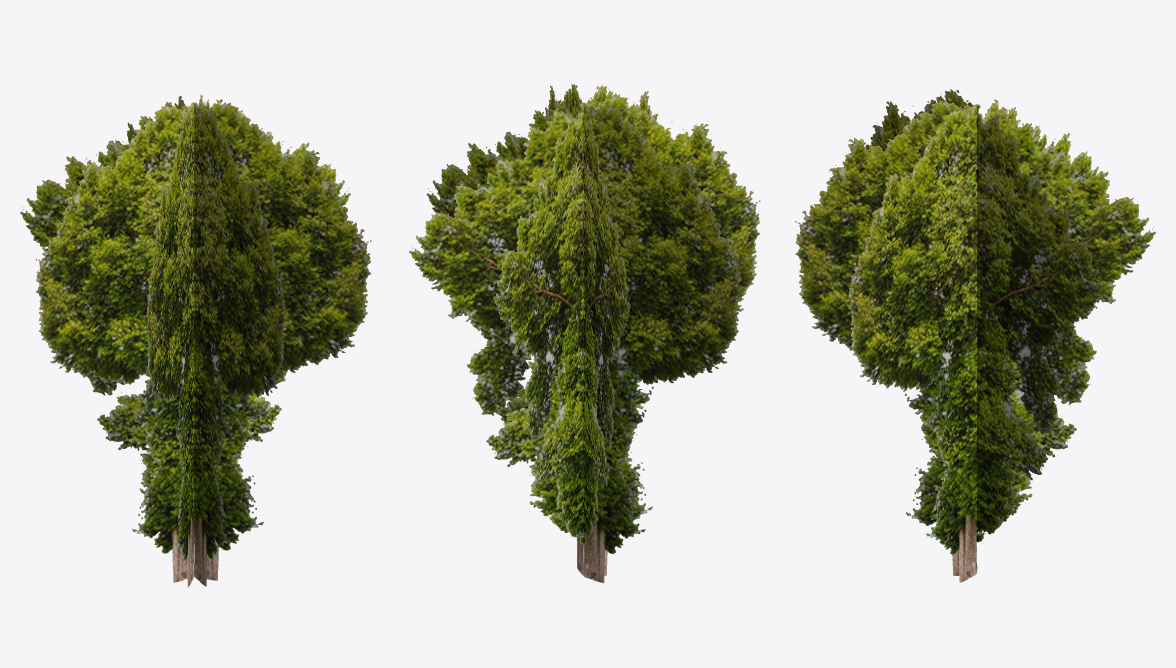
File: Tree3.fbx
3 views of the same model, side by side, from view 1: azimuth 30°, elevation 25°; view 2: azimuth 150°, elevation 25°; view 3: azimuth 270°, elevation 25° (orthographic).
Parts seen in each view (by area): view 1: tree4; view 2: tree4; view 3: tree4.
Boxes of the visible parts, x1,y1,x2,y2 form: tree4: (20, 95, 371, 587); tree4: (409, 84, 760, 583); tree4: (795, 89, 1155, 582).
Bounding box in the file's own units: 508 × 733 × 508.
